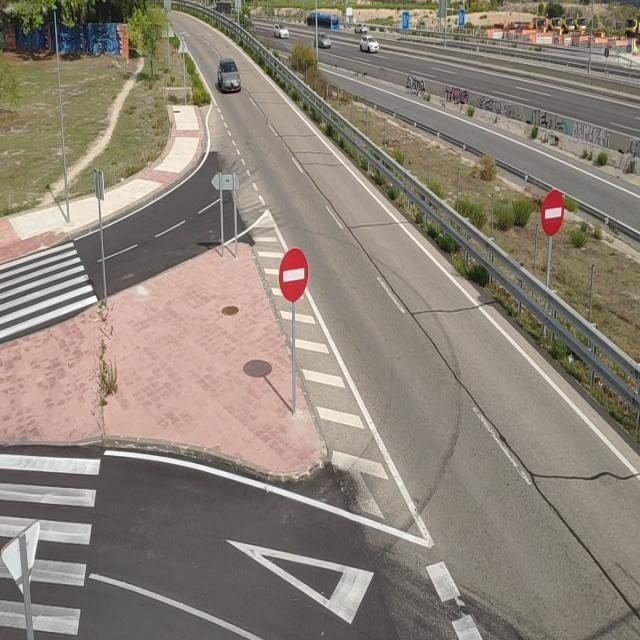Car: (218, 58, 240, 94), (360, 37, 381, 54), (313, 34, 334, 50), (274, 23, 290, 41)
